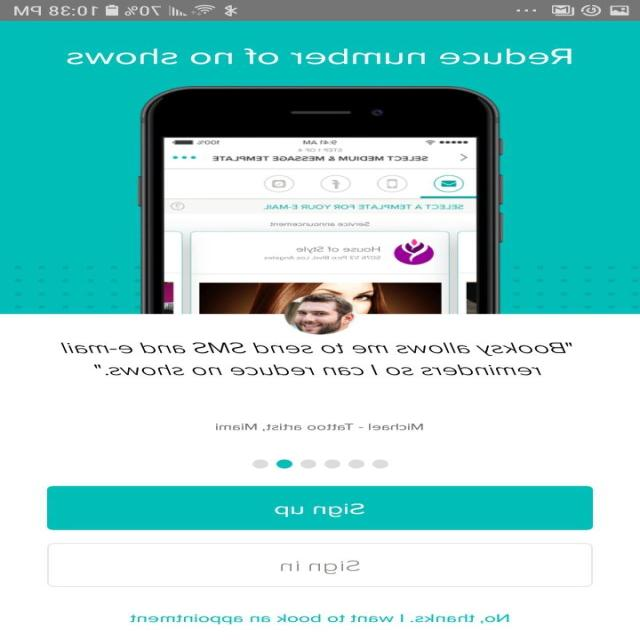Image: (138, 85, 504, 314), (284, 293, 358, 335)
Text: (61, 341, 572, 376), (67, 48, 574, 65), (130, 613, 510, 624), (216, 423, 424, 431)
TextButton: (48, 542, 594, 587), (47, 486, 593, 530)
